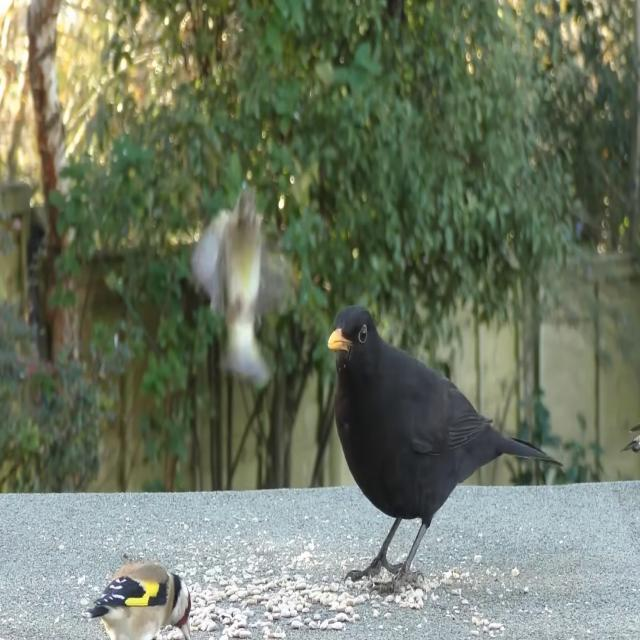beak: (323, 325, 351, 356), (178, 617, 193, 640)
bird: (325, 306, 552, 596), (196, 179, 306, 385), (88, 560, 194, 640)
